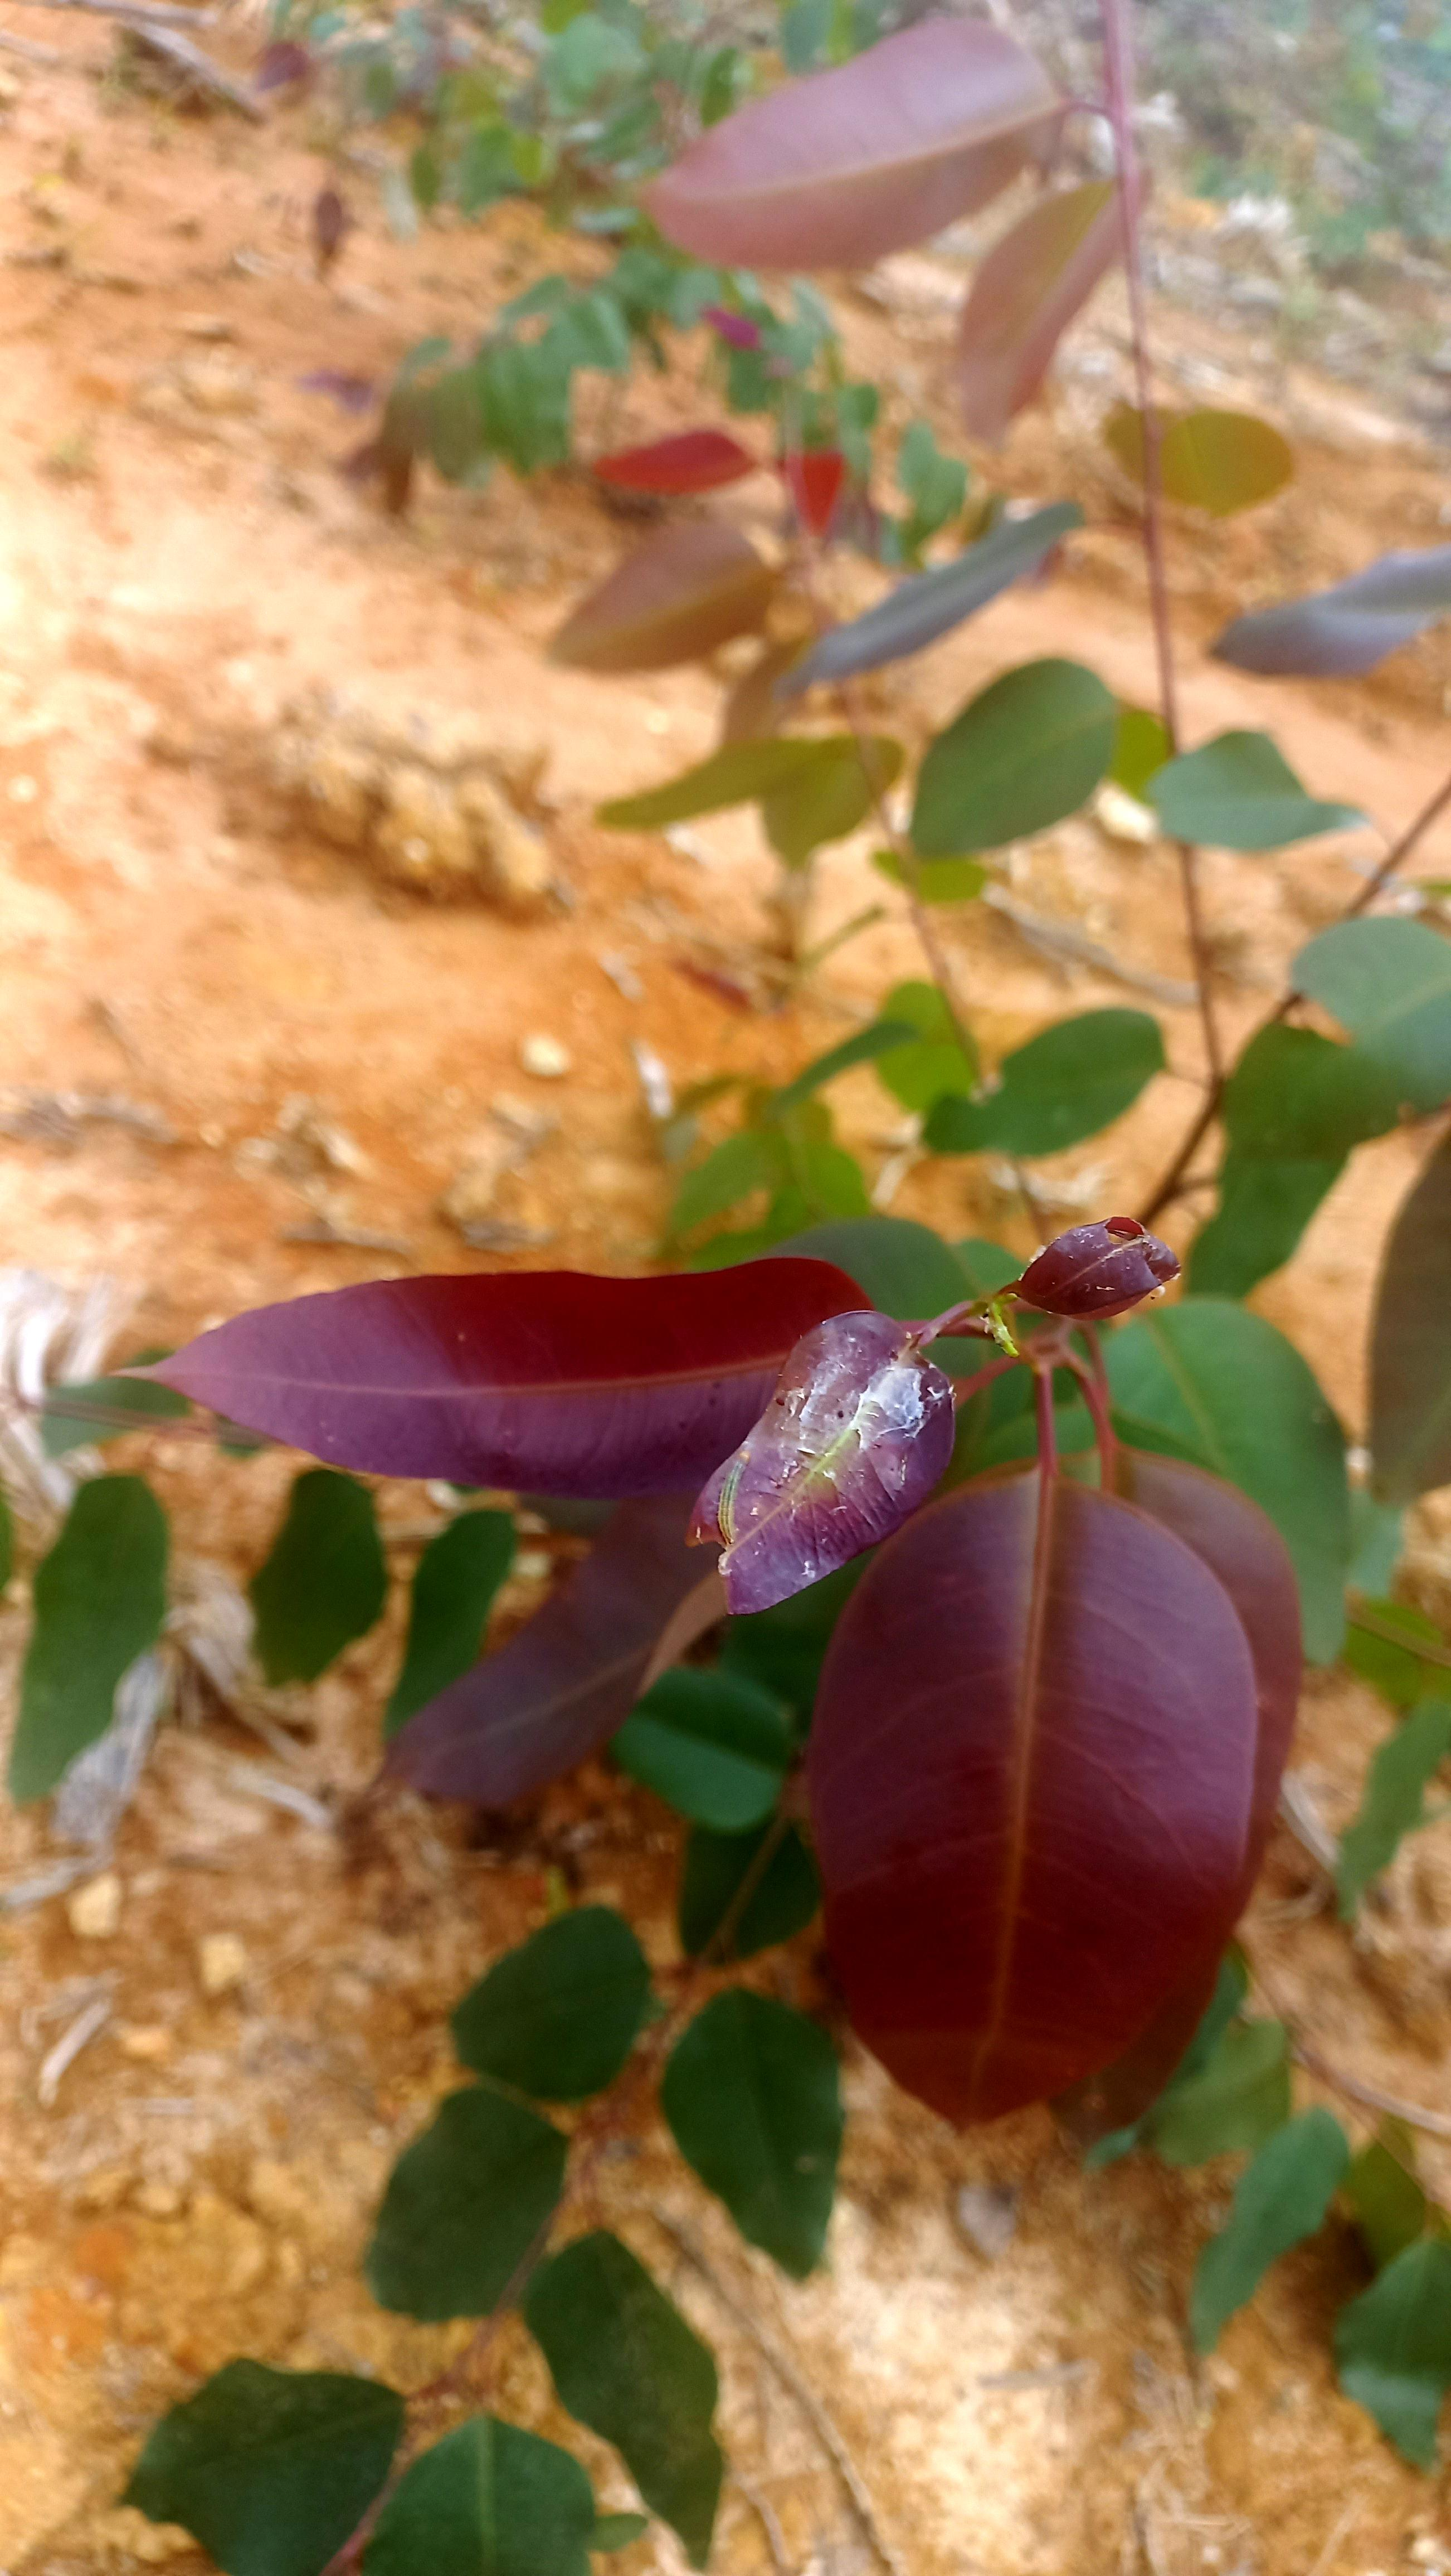Leaf Roller - Insect: (701, 1447, 759, 1559)
Leaf Roller - Leaf: (690, 1322, 952, 1621), (1021, 1210, 1178, 1323)
